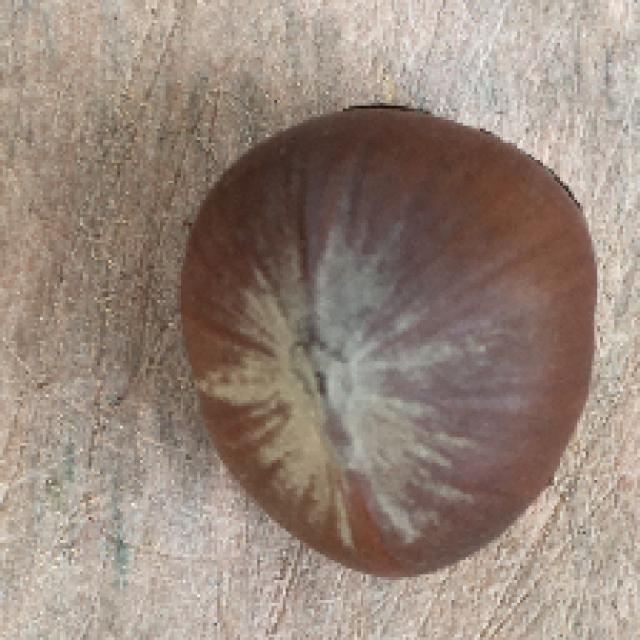damagedHazelnut: (174, 91, 603, 587)
